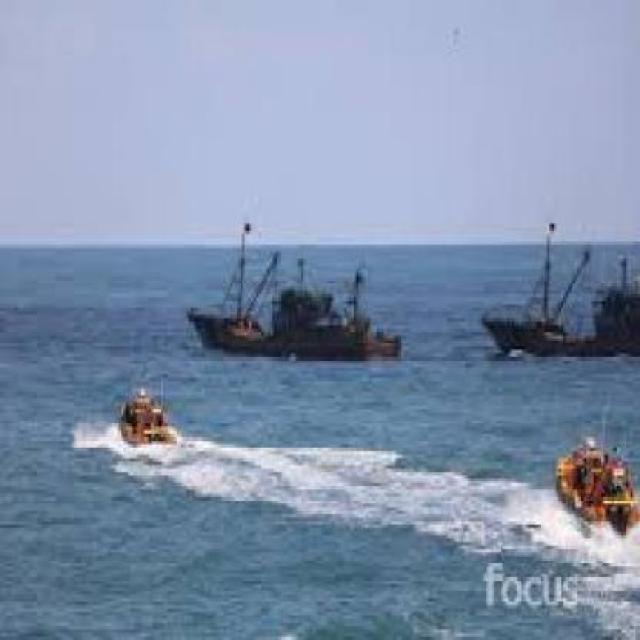fish-b: (185, 221, 420, 372), (466, 204, 639, 375)
